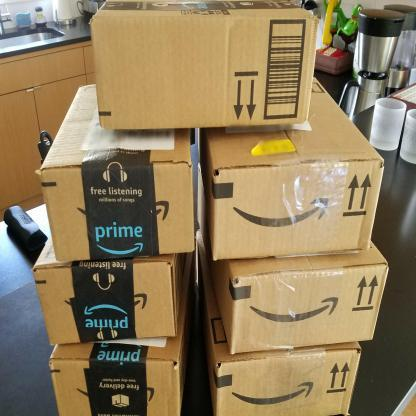package: (89, 0, 319, 134), (38, 85, 195, 260), (197, 125, 387, 256), (219, 251, 392, 348), (33, 240, 185, 340), (207, 324, 360, 414)
